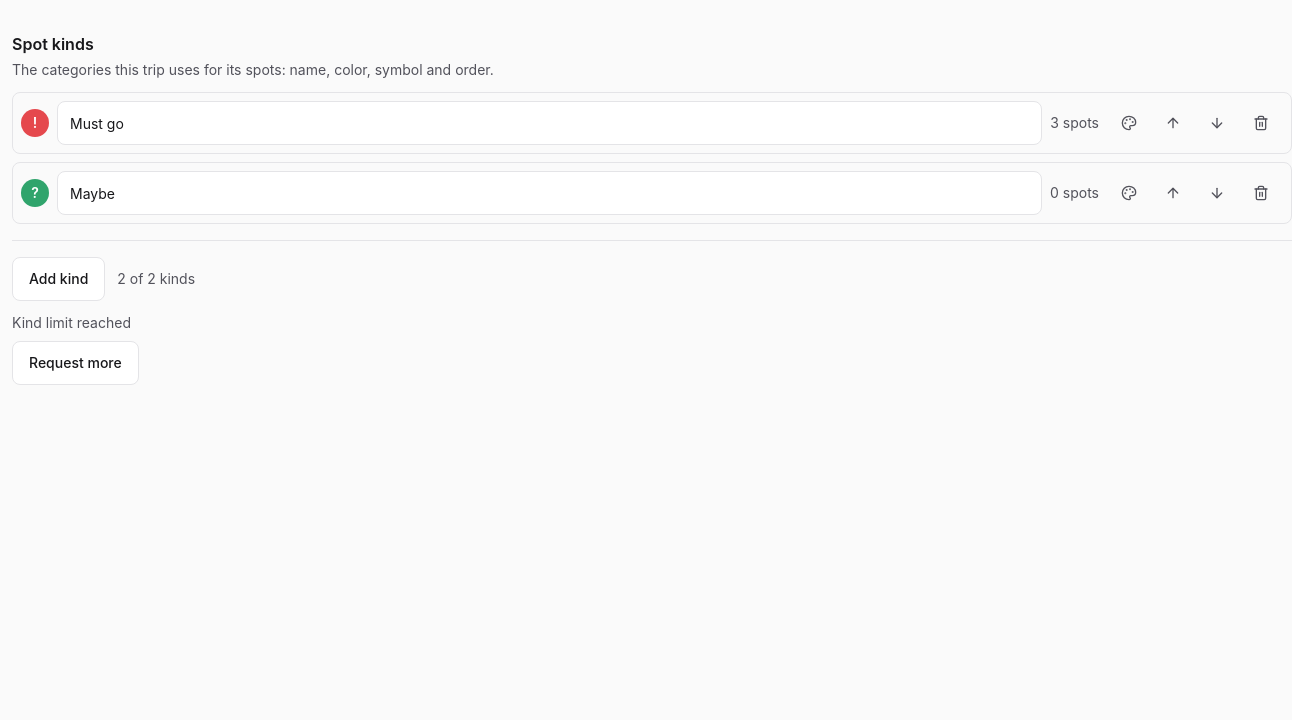
it: spot kinds section › T-29-11 disables Add kind at the limit and sends a request
Expected: the button "Add kind" is disabled, [12, 257, 105, 301]
Expected: the text "Kind limit reached" is shown, [12, 314, 131, 331]
Click the button "Request more".
click(75, 363)  # box [12, 341, 139, 385]
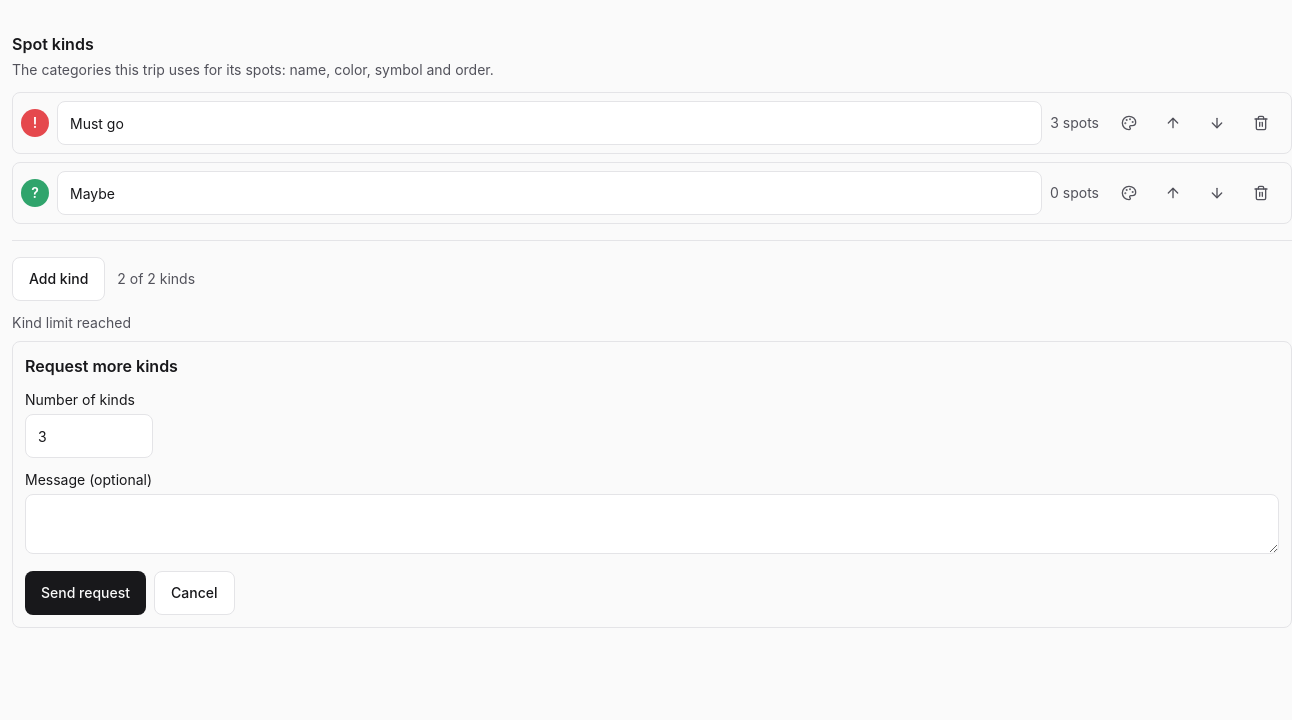
Click the button "Send request".
click(86, 593)  # box [25, 571, 146, 615]
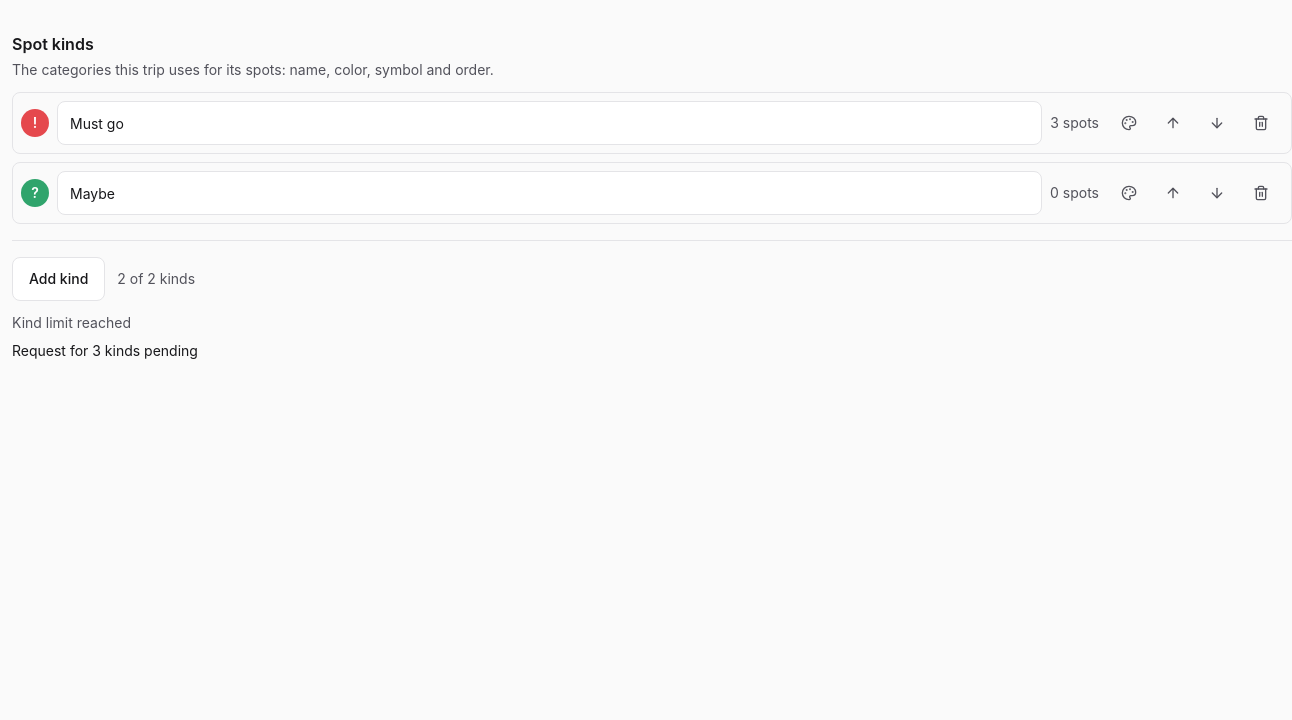
Expected: the text "Request for 3 kinds pending" is shown, [12, 342, 198, 359]
